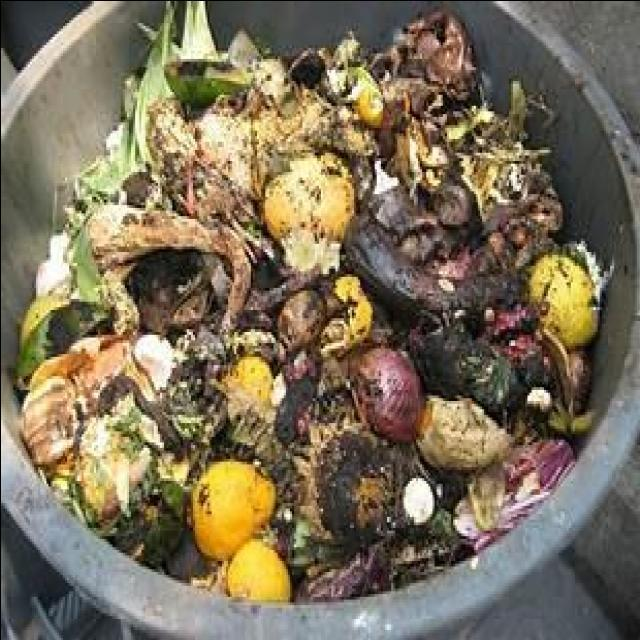Garbage: (7, 0, 606, 612)
